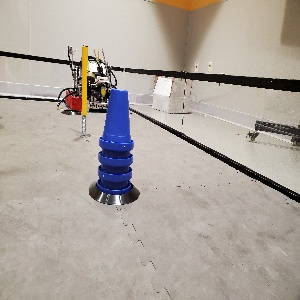Blue_4: (95, 85, 134, 195)
